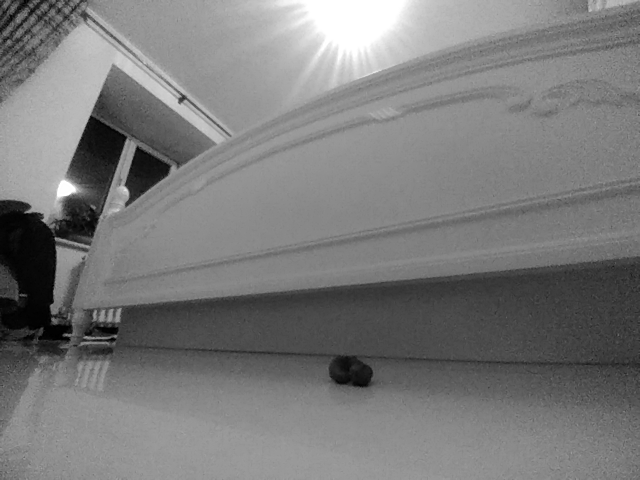pet feces: (327, 354, 373, 388)
